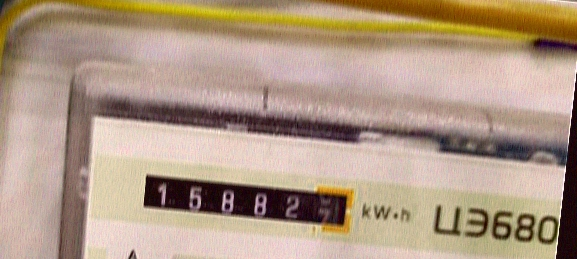1: (155, 181, 172, 207)
2: (284, 193, 302, 219)
5: (187, 184, 205, 211)
7: (317, 205, 333, 225)
8: (219, 188, 238, 216), (252, 191, 270, 217)
screen: (127, 157, 366, 246)
